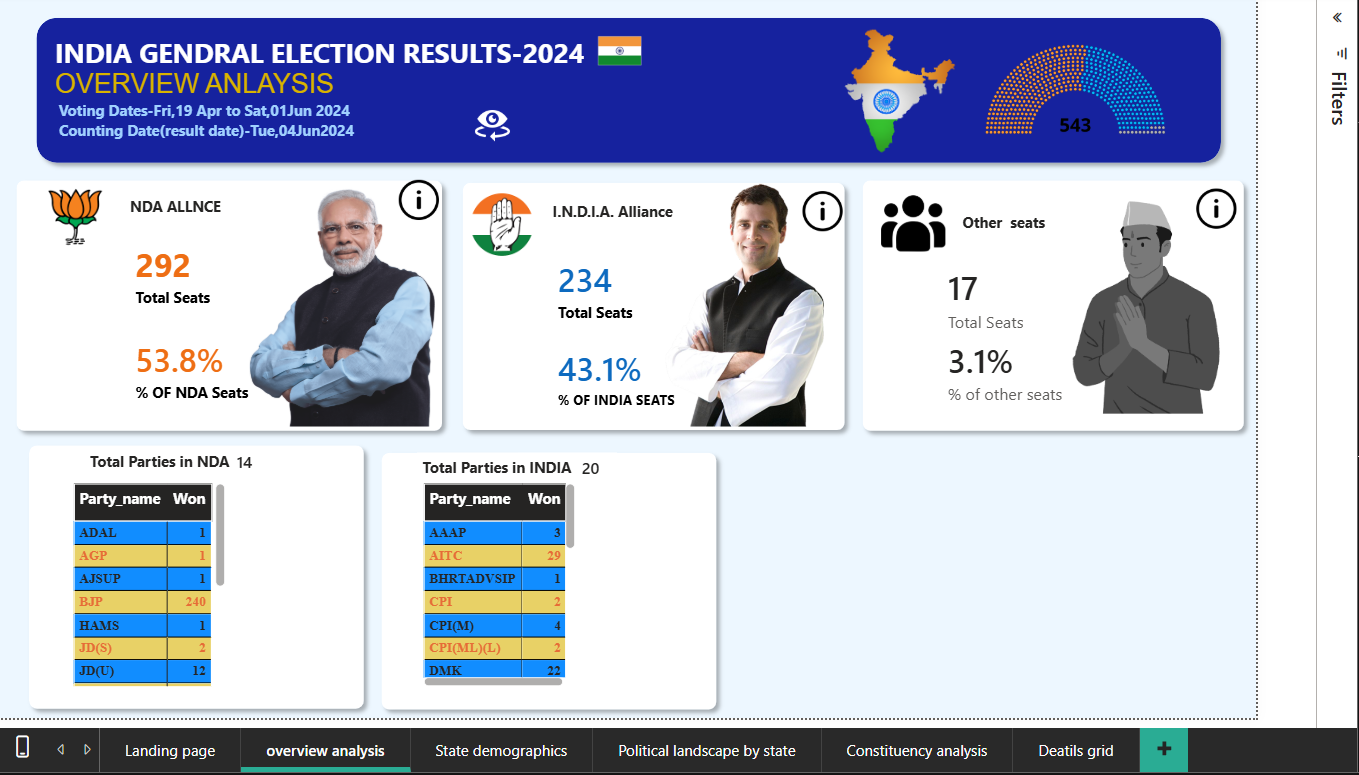

Layout of this report page (visuals, bound fields, positions):
{"tool":"powerbi","page":{"name":"overview analysis","canvas":[1250,720],"ordinal":1},"visuals":[{"type":"shape","box":[7.1,175.7,441.4,267.1],"z":0},{"type":"shape","box":[26.8,13.4,1196.7,162.1],"z":1000},{"type":"textbox","box":[49.6,33.5,758.5,123.3],"z":2000},{"type":"image","box":[808.1,33.5,170.2,123.3],"z":3000},{"type":"image","box":[978.2,33.5,184.9,120.6],"z":4000},{"type":"image","box":[243.9,187.6,193,241.2],"z":5000},{"type":"image","box":[685.7,300,74.3,84.3],"z":6000},{"type":"image","box":[26.8,187.6,95.1,64.3],"z":7000},{"type":"cardVisual","fields":{"Data":["measure_table.Total Seats"]},"box":[105.9,229.1,138,99.2],"z":8000},{"type":"textbox","box":[124.6,195.6,119.3,40.2],"z":9000},{"type":"shape","box":[451.6,178.2,398,264],"z":10000},{"type":"shape","box":[850,175.7,397.1,267.1],"z":11000},{"type":"cardVisual","fields":{"Data":["measure_table.% OF NDA Seats"]},"box":[105.9,317.6,174.2,112.6],"z":12000},{"type":"image","box":[643.2,187.6,195.6,241.2],"z":13000},{"type":"image","box":[451.4,197.1,95.7,64.3],"z":14000},{"type":"cardVisual","fields":{"Data":["measure_table.% OF INDIA SEATS"]},"box":[526.6,328.3,175.5,105.9],"z":15000},{"type":"cardVisual","fields":{"Data":["measure_table.Total Seats"]},"box":[526.6,245.2,144.7,97.8],"z":16000},{"type":"image","box":[1051.9,187.6,183.6,246.6],"z":17000},{"type":"image","box":[860.3,195.7,95.7,64.3],"z":18000},{"type":"cardVisual","fields":{"Data":["measure_table.% of other seats"]},"box":[914.6,318.6,175.7,112.9],"z":19000},{"type":"cardVisual","fields":{"Data":["measure_table.Total Seats"]},"box":[914.6,245.7,175.7,112.9],"z":20000},{"type":"textbox","box":[545.4,199.7,175.5,40.2],"z":21000},{"type":"shape","box":[20.1,439.5,351.1,280.1],"z":22000},{"type":"textbox","box":[84.3,448.6,198.6,32.9],"z":23000},{"type":"cardVisual","fields":{"Data":["CountNonNull(partywise_results.Party)"]},"box":[206.4,438.2,76.4,50.9],"z":24000},{"type":"tableEx","fields":{"Values":["partywise_results.Party_short","partywise_results.Won"]},"box":[67.1,481.4,161.4,211.4],"z":25000},{"type":"shape","box":[371.2,446.2,351.1,273.4],"z":26000},{"type":"textbox","box":[415.7,455.7,198.6,32.9],"z":27000},{"type":"cardVisual","fields":{"Data":["CountNonNull(partywise_results.Party)"]},"box":[549.4,442.2,76.4,54.9],"z":28000},{"type":"textbox","box":[952.8,211.7,136.7,40.2],"z":29000},{"type":"tableEx","fields":{"Values":["partywise_results.Party_short","partywise_results.Won"]},"box":[415.7,481.4,161.4,211.4],"z":30000},{"type":"image","box":[588.3,33.5,56.3,44.2],"z":31000},{"type":"image","box":[397.2,179.2,40.3,50],"z":33000},{"type":"image","box":[465.3,109.7,50,40.3],"z":34000},{"type":"image","box":[798.6,190.3,40.3,50],"z":35000},{"type":"image","box":[1190.3,187.5,40.3,50],"z":36000}]}

Visuals, with their boxes on the page's 1250x720 design canvas (x1, y1, x2, y2). These are canvas units, not pixel positions in the 1359x775 screenshot, which may show the page scaled, cropped or inside an application window:
shape: (7, 176, 448, 443)
shape: (27, 13, 1224, 176)
textbox: (50, 34, 808, 157)
image: (808, 34, 978, 157)
image: (978, 34, 1163, 154)
image: (244, 188, 437, 429)
image: (686, 300, 760, 384)
image: (27, 188, 122, 252)
cardVisual - measure_table.Total Seats: (106, 229, 244, 328)
textbox: (125, 196, 244, 236)
shape: (452, 178, 850, 442)
shape: (850, 176, 1247, 443)
cardVisual - measure_table.% OF NDA Seats: (106, 318, 280, 430)
image: (643, 188, 839, 429)
image: (451, 197, 547, 261)
cardVisual - measure_table.% OF INDIA SEATS: (527, 328, 702, 434)
cardVisual - measure_table.Total Seats: (527, 245, 671, 343)
image: (1052, 188, 1236, 434)
image: (860, 196, 956, 260)
cardVisual - measure_table.% of other seats: (915, 319, 1090, 432)
cardVisual - measure_table.Total Seats: (915, 246, 1090, 359)
textbox: (545, 200, 721, 240)
shape: (20, 440, 371, 720)
textbox: (84, 449, 283, 482)
cardVisual - CountNonNull(partywise_results.Party): (206, 438, 283, 489)
tableEx - partywise_results.Party_short x partywise_results.Won: (67, 481, 228, 693)
shape: (371, 446, 722, 720)
textbox: (416, 456, 614, 489)
cardVisual - CountNonNull(partywise_results.Party): (549, 442, 626, 497)
textbox: (953, 212, 1090, 252)
tableEx - partywise_results.Party_short x partywise_results.Won: (416, 481, 577, 693)
image: (588, 34, 645, 78)
image: (397, 179, 438, 229)
image: (465, 110, 515, 150)
image: (799, 190, 839, 240)
image: (1190, 188, 1231, 238)
